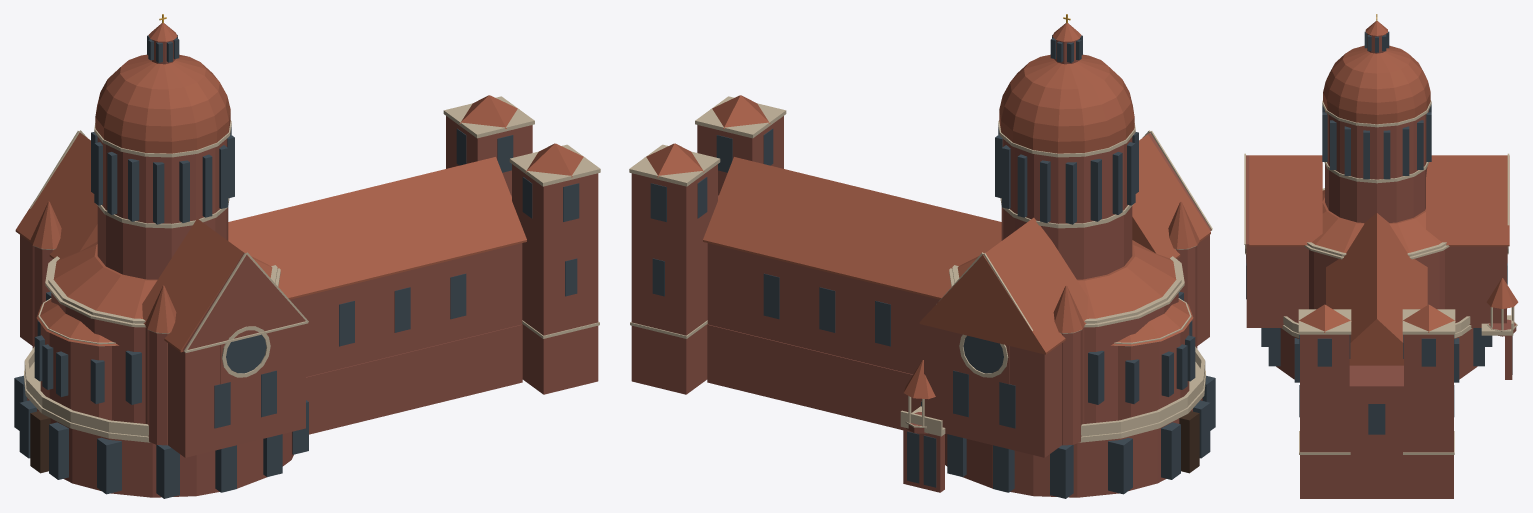
The model's file is ferdinand_monastery.meshopt.glb.
The picture shows the model from 3 angles, left to right: view 1: azimuth 30°, elevation 25°; view 2: azimuth 150°, elevation 25°; view 3: azimuth 270°, elevation 25°; orthographic projection. The views are drawn at different scales.
Parts seen in each view (by area): view 1: nave_roof, nave, tower_n, nave_plinth, transept_n, dome, drum, arcade, transept_n_roof, transept_s_roof, transept_n_gable, skirt_roof (+39 smaller); view 2: nave_roof, nave, tower_s, transept_s_roof, nave_plinth, transept_s, dome, drum, arcade, transept_n_roof, skirt_roof, apse (+41 smaller); view 3: nave_roof, tower_s, drum, tower_n, transept_s_roof, narthex, dome, transept_n_roof, transept_n, transept_s, skirt_roof, ambulatory (+23 smaller).
Boxes of the visible parts, x1,y1,x2,y2 form: nave_roof: (228,157,526,299); nave: (290,243,522,376); tower_n: (512,164,598,394); nave_plinth: (306,324,522,434); transept_n: (145,324,305,457); dome: (95,54,230,153); drum: (97,137,228,279); arcade: (27,398,293,497); transept_n_roof: (142,218,243,352); transept_s_roof: (15,133,97,258); transept_n_gable: (183,251,305,350); skirt_roof: (53,241,272,318); nave_roof: (703,157,1001,299); nave: (707,243,939,374); tower_s: (631,164,717,394); transept_s_roof: (919,217,1088,354); nave_plinth: (707,324,921,430); transept_s: (924,325,1084,457); dome: (999,54,1134,153); drum: (1001,137,1132,279); arcade: (945,398,1202,497); transept_n_roof: (1132,134,1210,258); skirt_roof: (957,240,1176,318); apse: (1118,324,1189,420); nave_roof: (1326,213,1427,365); tower_s: (1404,334,1453,498); drum: (1325,110,1428,222); tower_n: (1300,334,1349,498); transept_s_roof: (1426,155,1509,246); narthex: (1348,365,1405,498); dome: (1323,45,1430,124); transept_n_roof: (1249,155,1322,246); transept_n: (1246,244,1308,327); transept_s: (1445,246,1506,327); skirt_roof: (1312,190,1441,252); ambulatory: (1309,250,1444,309).
Size of the model in its own units: 55.67 by 43.82 by 32.41.
